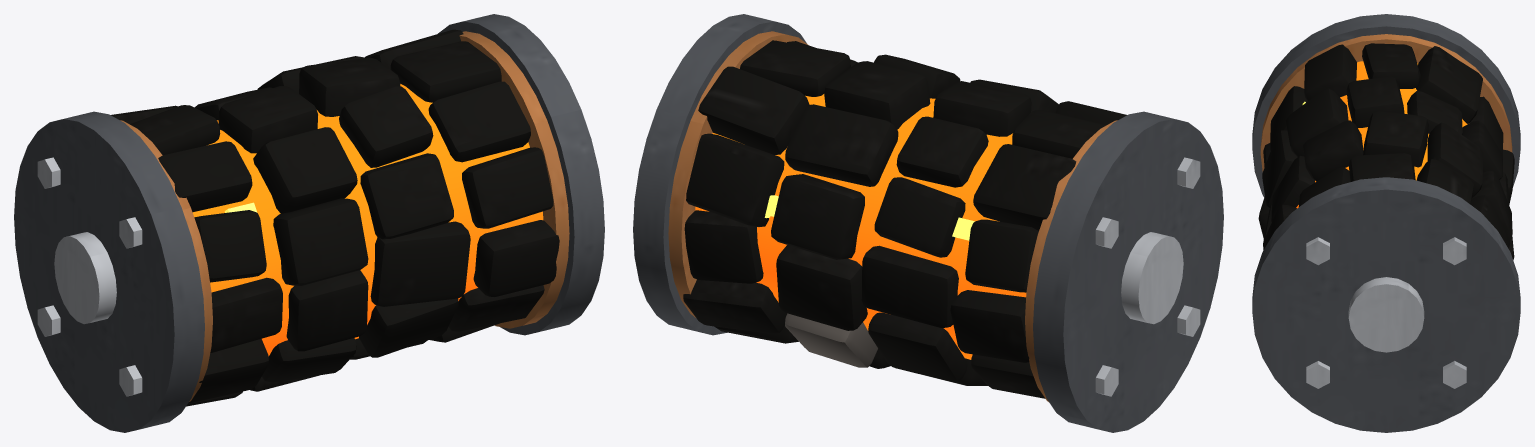
File: ember.glb
3 renders of one model, left to right at view 1: azimuth 30°, elevation 25°; view 2: azimuth 150°, elevation 25°; view 3: azimuth 270°, elevation 25°, orthographic. The views are drawn at different scales.
Visible parts, largest first — view 1: Ember.001; view 2: Ember.001; view 3: Ember.001.
Part boxes in pixels (box(x1,y1,x2,y2)): Ember.001: box(14, 14, 604, 432); Ember.001: box(633, 14, 1223, 432); Ember.001: box(1252, 14, 1520, 432).
Bounding box in the file's own units: 0.214 × 0.128 × 0.128.
Materials: 7 (4 with a texture image).
